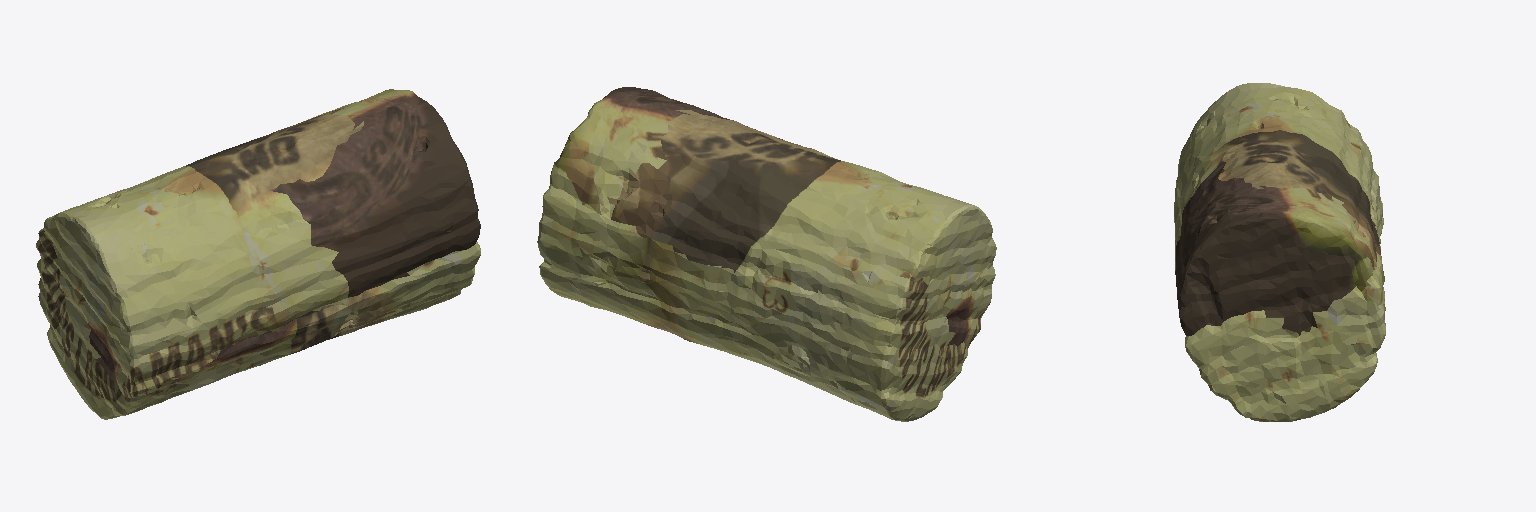
The picture shows the model from 3 angles: view 1: azimuth 30°, elevation 25°; view 2: azimuth 150°, elevation 25°; view 3: azimuth 270°, elevation 25°; orthographic projection.
Parts seen in each view (by area): view 1: ShapeIndexedFaceSet; view 2: ShapeIndexedFaceSet; view 3: ShapeIndexedFaceSet.
Boxes of the visible parts, x1=… form: ShapeIndexedFaceSet: x1=36, y1=89, x2=480, y2=419; ShapeIndexedFaceSet: x1=537, y1=87, x2=996, y2=421; ShapeIndexedFaceSet: x1=1174, y1=83, x2=1385, y2=421.
Size of the model in its own units: 9.75 by 6.02 by 4.82.
Materials: 1 (1 with a texture image).